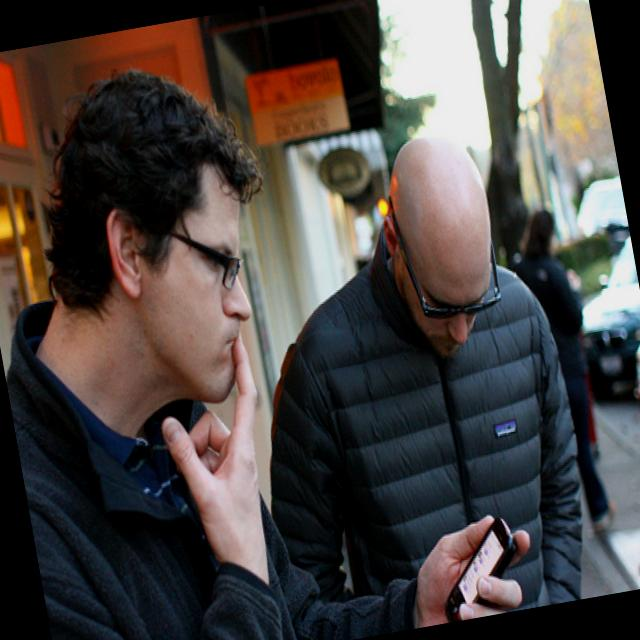Vehicle: (561, 223, 640, 399), (565, 170, 629, 240), (620, 319, 640, 440)
